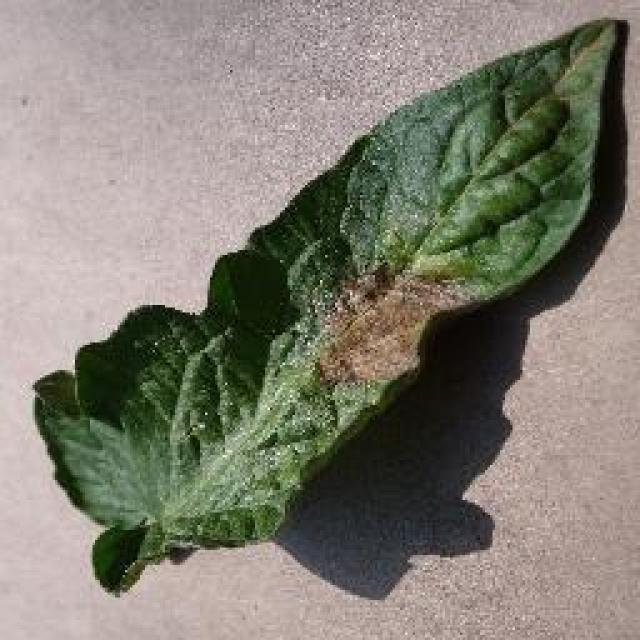Tomato late blight leaf: (35, 17, 625, 600)
